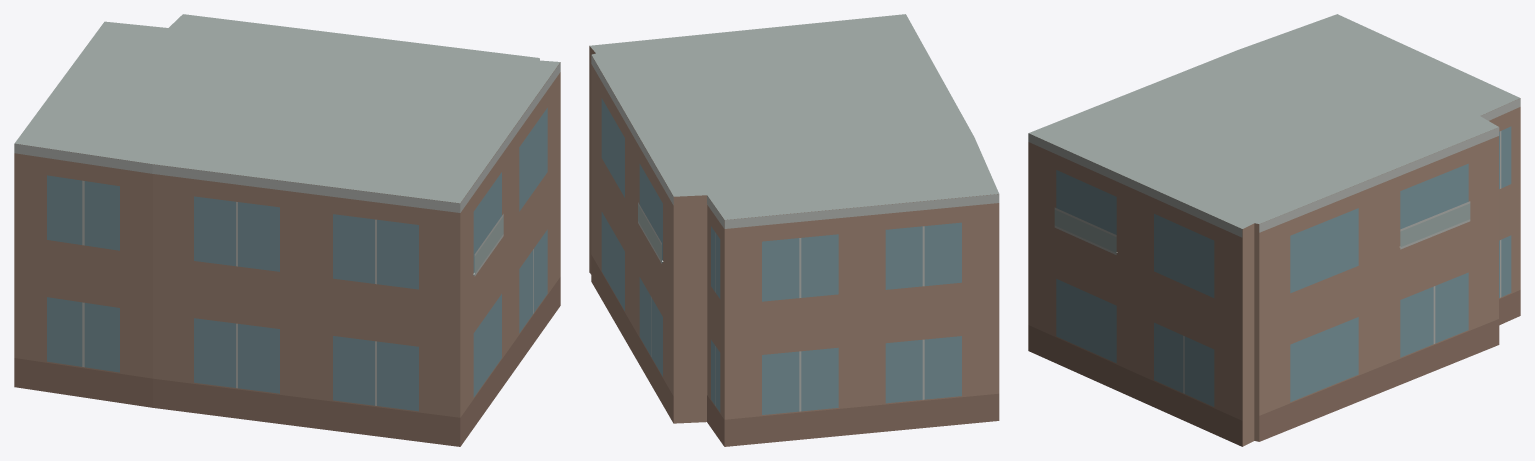
Rendered from survey-upis-32821265.glb.
3 renders of one model, left to right at view 1: azimuth 30°, elevation 25°; view 2: azimuth 150°, elevation 25°; view 3: azimuth 270°, elevation 25°, orthographic. The views are drawn at different scales.
Visible parts, largest first — view 1: survey-upis-32821265.tmp; view 2: survey-upis-32821265.tmp; view 3: survey-upis-32821265.tmp.
Part boxes in pixels (x1,y1,x2,y2): survey-upis-32821265.tmp: [14, 14, 560, 446]; survey-upis-32821265.tmp: [589, 14, 999, 446]; survey-upis-32821265.tmp: [1028, 14, 1520, 446].
Size of the model in its own units: 12.93 by 6.1 by 12.5.
